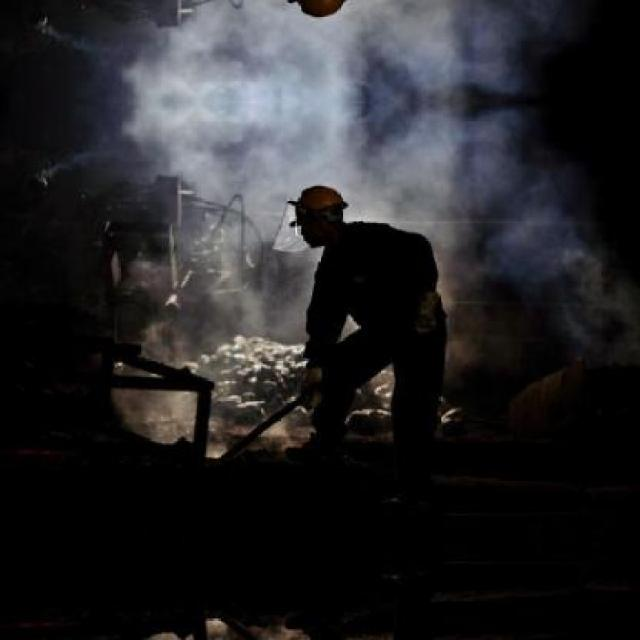helmet: (289, 179, 357, 243), (290, 0, 358, 23)
